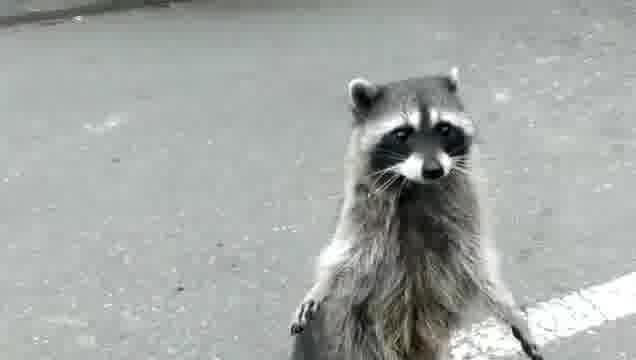raccoon: (287, 64, 548, 360)
